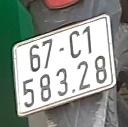1: (80, 22, 97, 58)
2: (74, 57, 95, 94)
3: (54, 65, 71, 99)
5: (22, 76, 38, 111)
6: (28, 42, 43, 74)
7: (40, 37, 55, 71)
8: (92, 50, 109, 89), (38, 71, 53, 103)
C: (67, 27, 85, 62)
